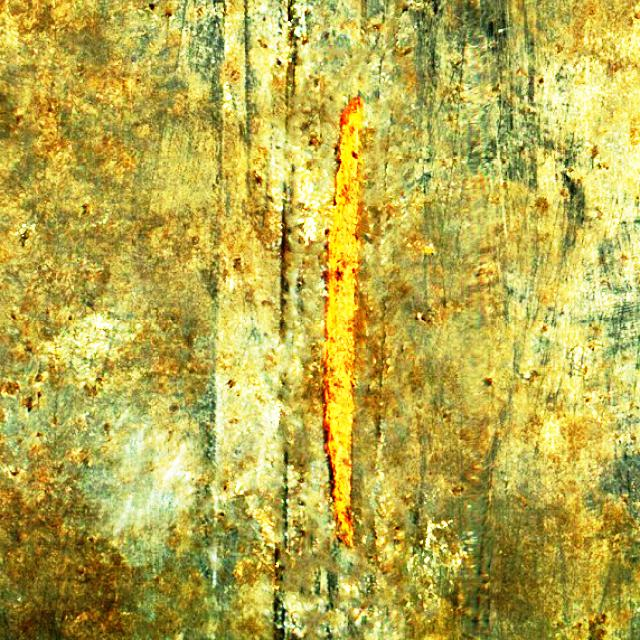Corrosion: (324, 97, 361, 552)
